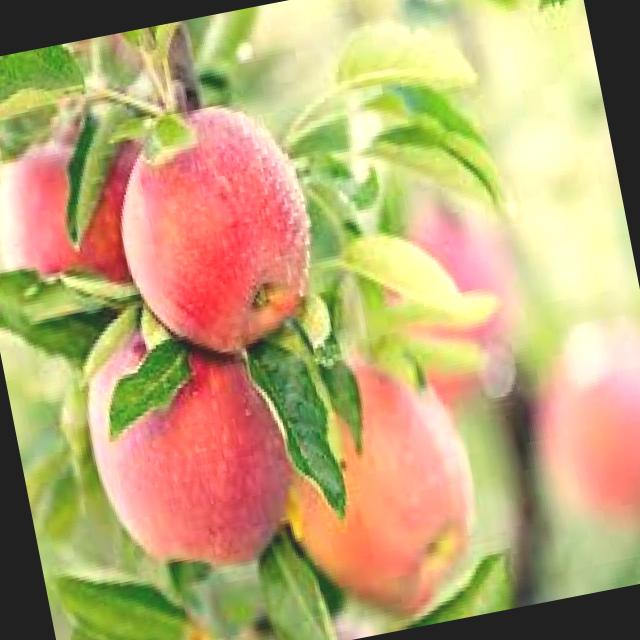Apple: (70, 288, 310, 586), (259, 342, 499, 638), (101, 88, 335, 370), (358, 198, 537, 406), (0, 103, 172, 305)
